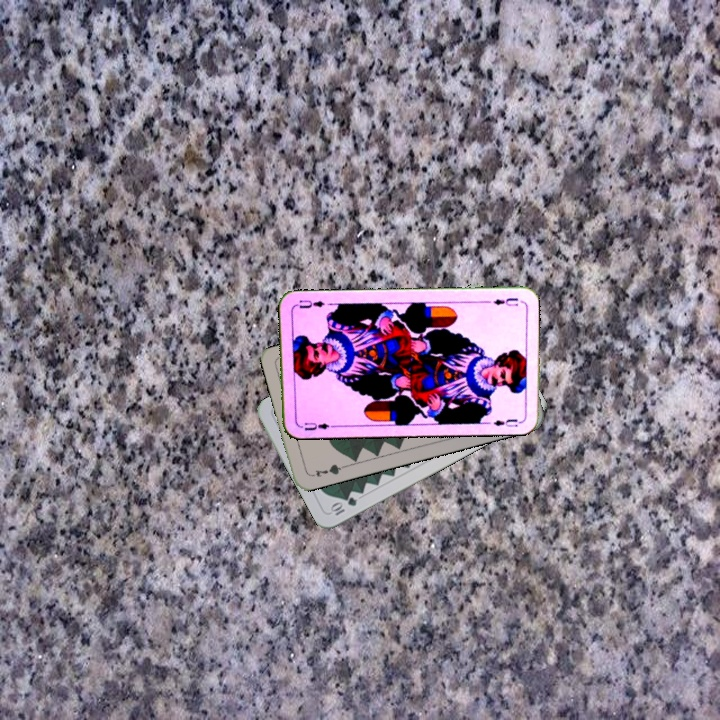EU: (296, 418, 336, 433), (489, 294, 520, 309)
G10: (326, 493, 359, 518)
G7: (307, 460, 347, 480)
